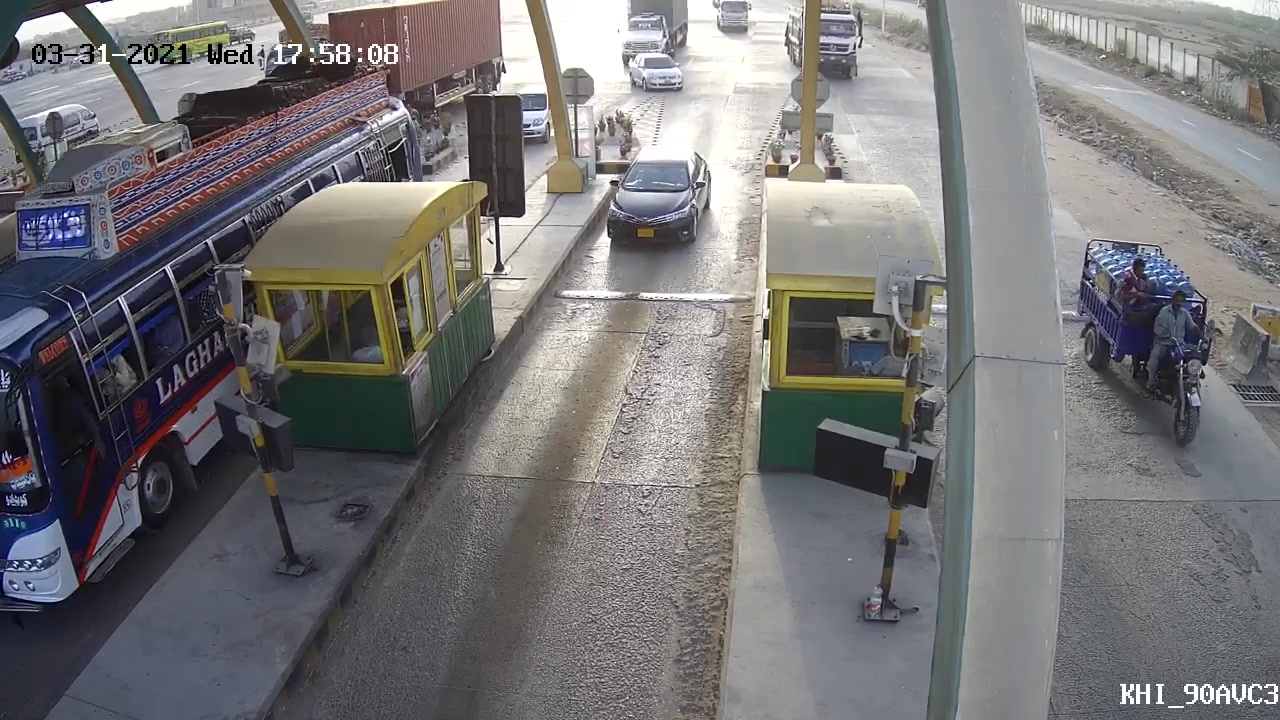F1: (593, 147, 714, 265)
